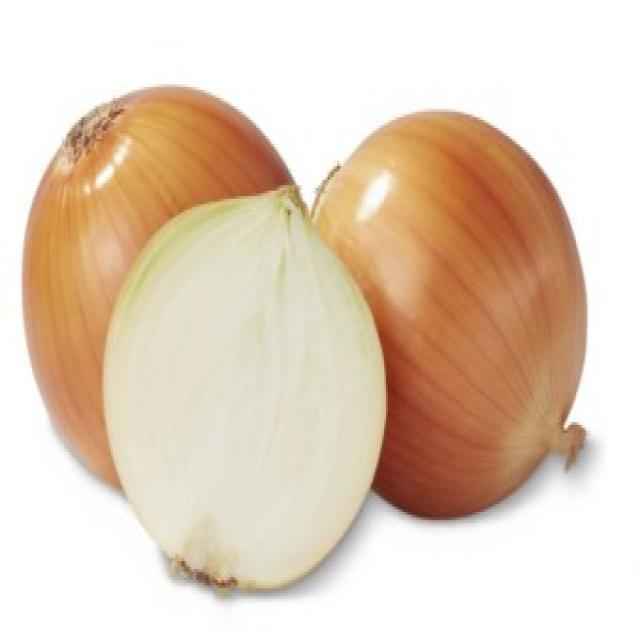onion: (103, 180, 380, 600), (338, 116, 604, 531), (27, 62, 234, 388)
